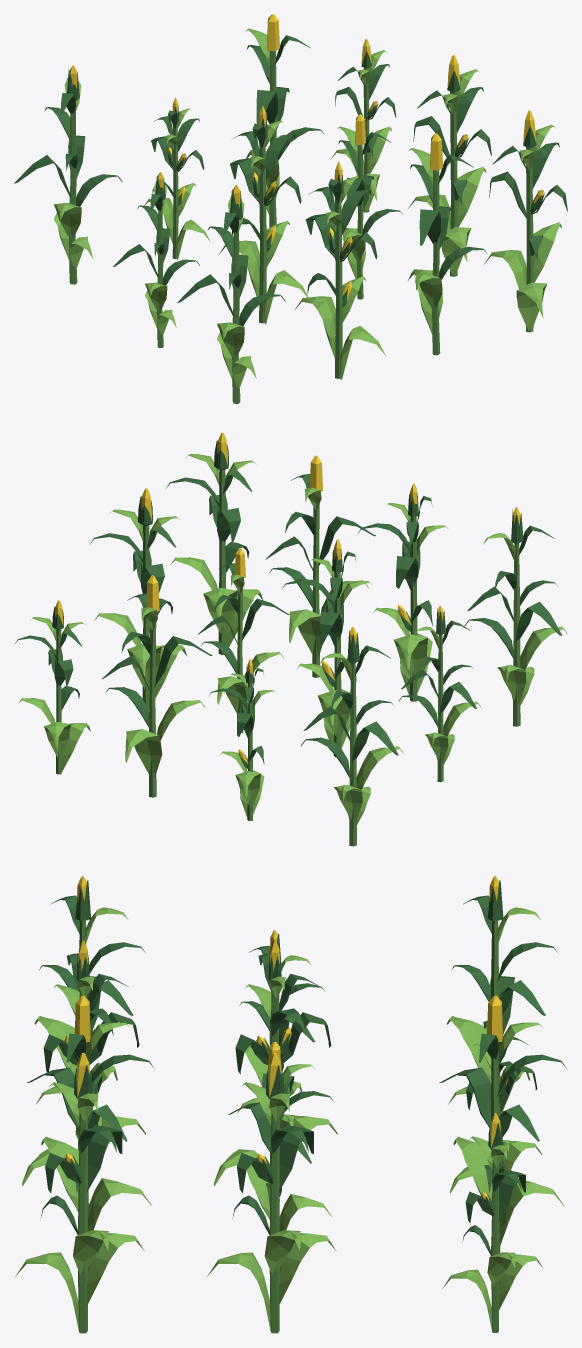
File: Corn_plant.fbx
The picture shows the model from 3 angles, top to bottom: view 1: azimuth 30°, elevation 25°; view 2: azimuth 150°, elevation 25°; view 3: azimuth 270°, elevation 25°; orthographic projection. The views are drawn at different scales.
Visible parts, largest first — view 1: CornPlants; view 2: CornPlants; view 3: CornPlants.
Part boxes in pixels (x1,y1,x2,y2): CornPlants: (14,14,567,403); CornPlants: (15,432,567,846); CornPlants: (15,875,566,1333).
Size of the model in its own units: 531 by 290 by 518.
